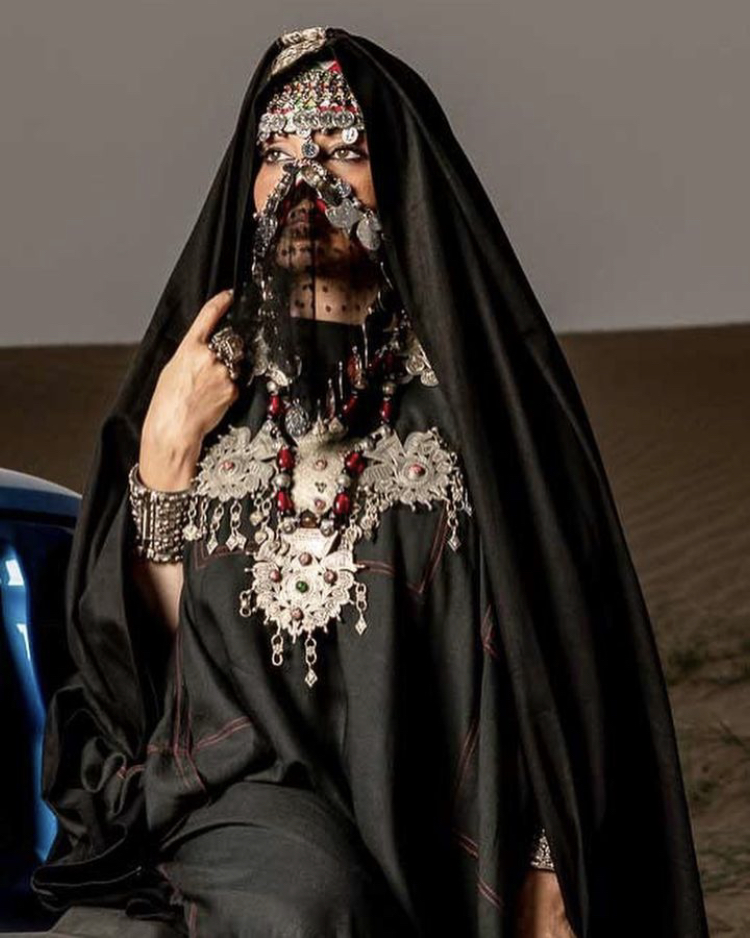Saudi_Founding_Day: (31, 23, 708, 938)
